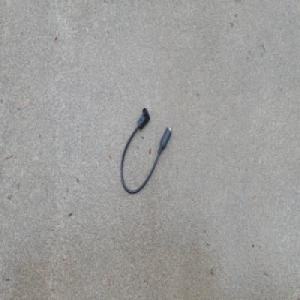Wire: (120, 106, 172, 194)
